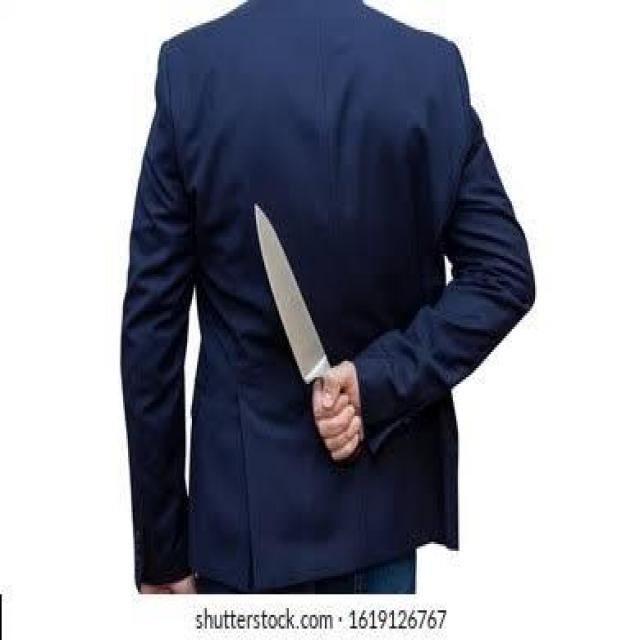knife: (254, 204, 332, 388)
